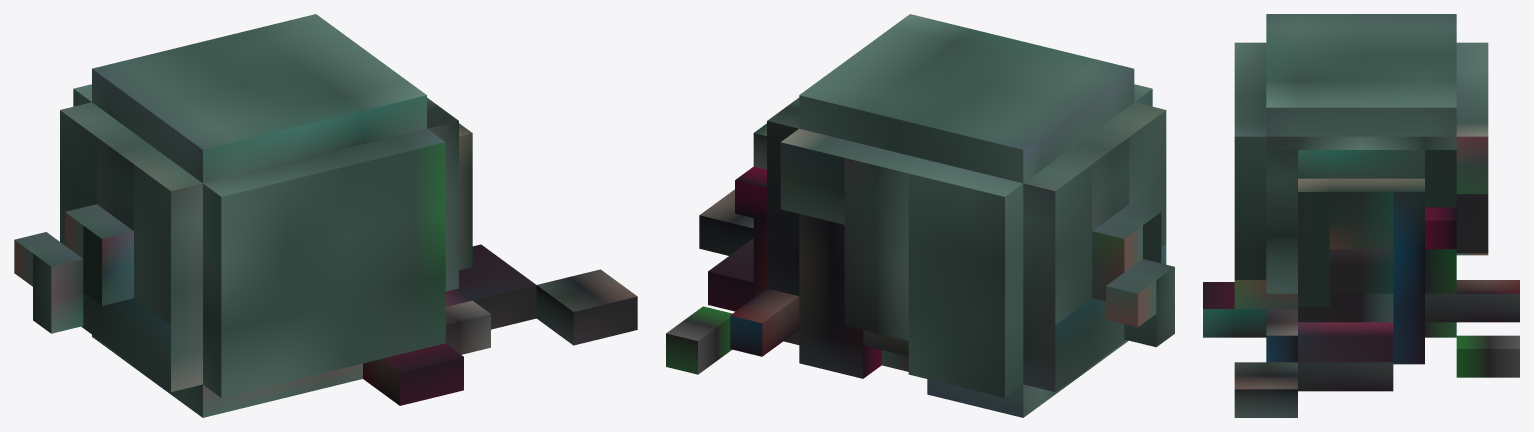
File: Trash_G_00.fbx
3 views of the same model, side by side, from view 1: azimuth 30°, elevation 25°; view 2: azimuth 150°, elevation 25°; view 3: azimuth 270°, elevation 25° (orthographic). The views are drawn at different scales.
Visible parts, largest first — view 1: Trash_G_00; view 2: Trash_G_00; view 3: Trash_G_00.
Boxes of the visible parts, x1=… form: Trash_G_00: x1=14, y1=14, x2=637, y2=417; Trash_G_00: x1=666, y1=14, x2=1174, y2=417; Trash_G_00: x1=1203, y1=14, x2=1519, y2=417.
Size of the model in its own units: 80 by 40 by 50.
